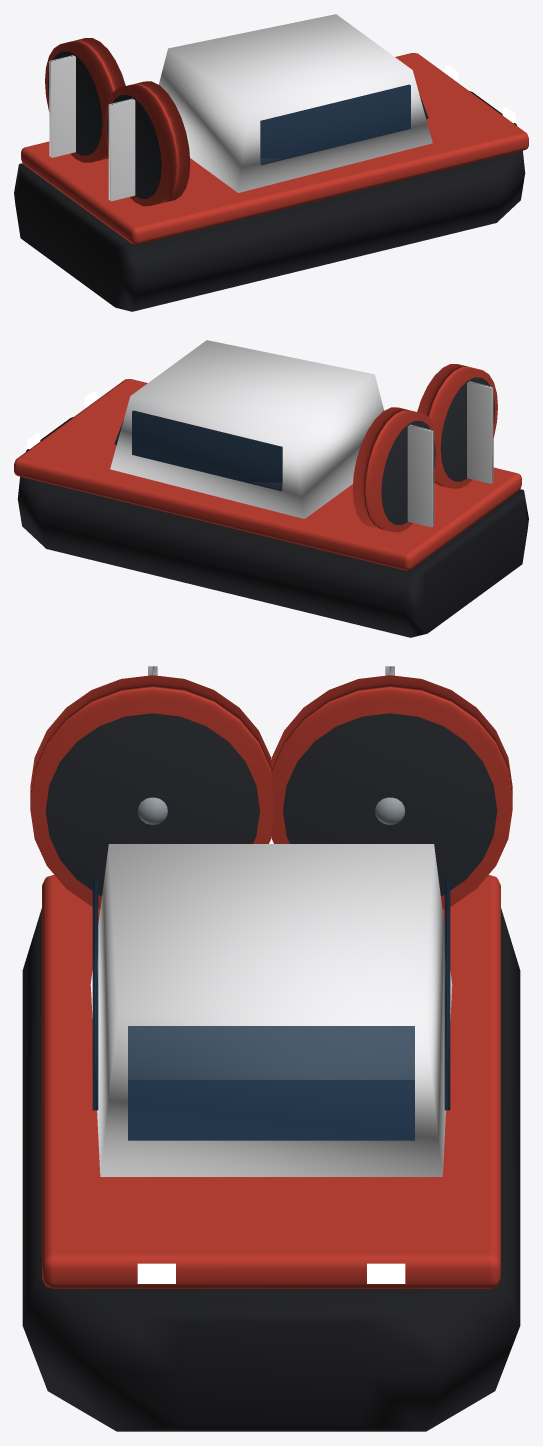
Rendered from hovercraft.glb.
3 views of the same model, one above another, from view 1: azimuth 30°, elevation 25°; view 2: azimuth 150°, elevation 25°; view 3: azimuth 270°, elevation 25° (orthographic). The views are drawn at different scales.
Parts seen in each view (by area): view 1: body; view 2: body; view 3: body.
Part boxes in pixels (box(x1,y1,x2,y2)): body: box(14, 14, 528, 311); body: box(14, 340, 528, 637); body: box(22, 666, 520, 1431).
Bounding box in the file's own units: 51.5 × 22.4 × 26.
